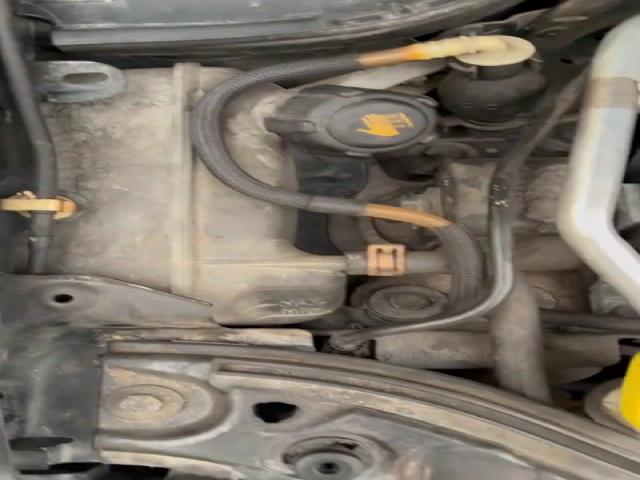antifreeze_tank: (44, 63, 347, 325), (223, 84, 435, 189)
